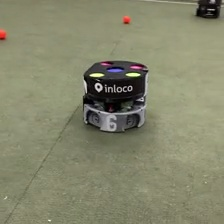ball: (123, 14, 131, 23), (1, 28, 7, 40)
robot: (82, 59, 150, 133), (194, 1, 222, 19)
